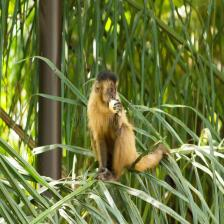monkey: (91, 68, 150, 188)
